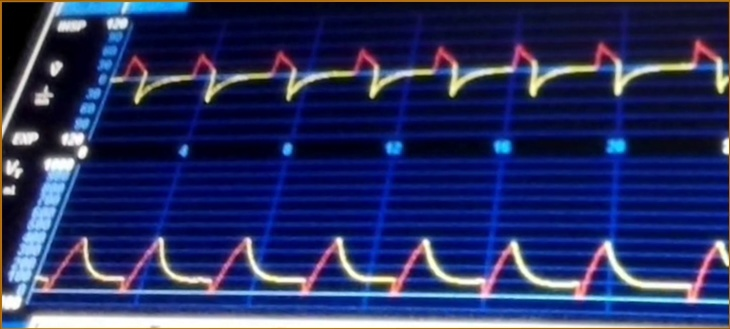Flow: (126, 23, 730, 129)
Leakage Volume: (55, 203, 716, 312)
